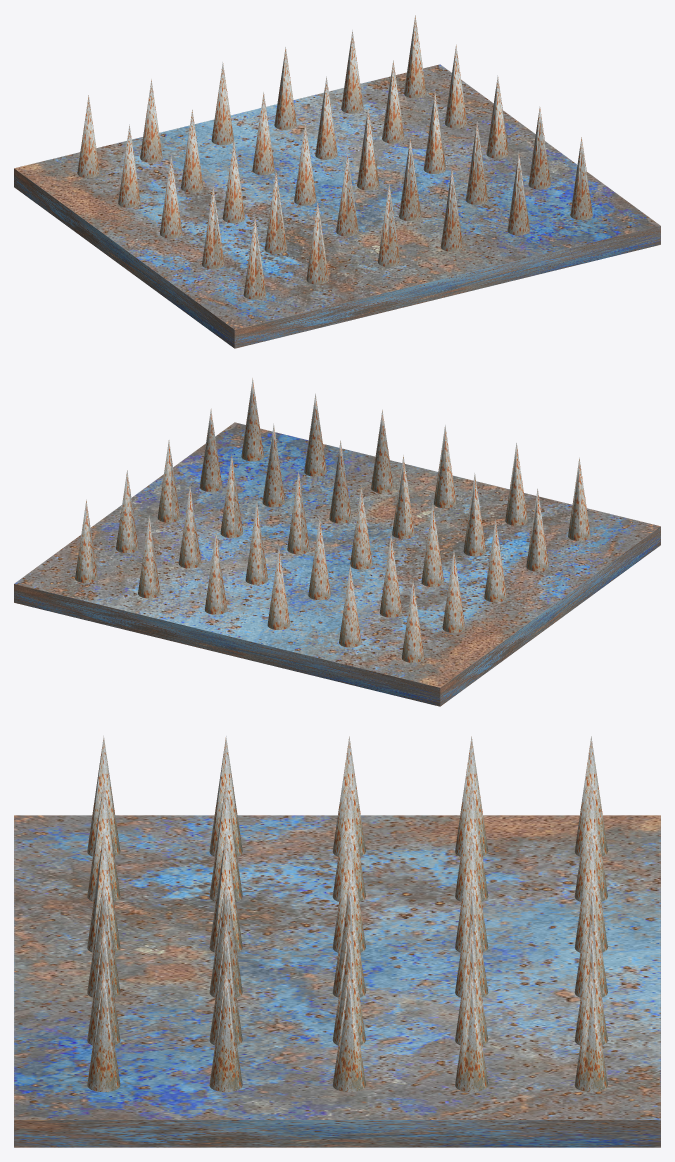
The model's file is utku_spike.fbx.
3 renders of one model, top to bottom at view 1: azimuth 30°, elevation 25°; view 2: azimuth 150°, elevation 25°; view 3: azimuth 270°, elevation 25°, orthographic. The views are drawn at different scales.
Visible parts, largest first — view 1: Box001, Cone025; view 2: Box001, Cone025; view 3: Box001, Cone025.
Part boxes in pixels (x1,y1,x2,y2): Box001: (14,64,660,348); Cone025: (77,15,592,299); Box001: (14,422,660,706); Cone025: (75,378,590,662); Box001: (14,815,660,1147); Cone025: (87,735,607,1092).
Bounding box in the file's own units: 78.67 × 17.32 × 70.56.
